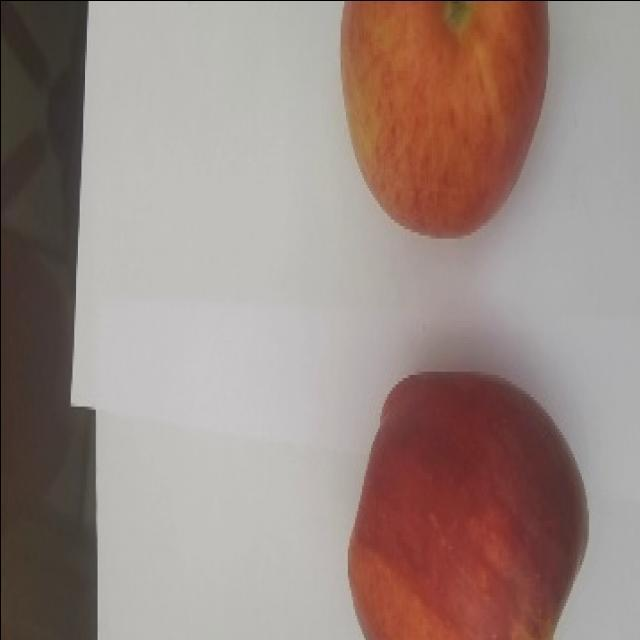Apple: (346, 370, 589, 639), (339, 0, 549, 239)
